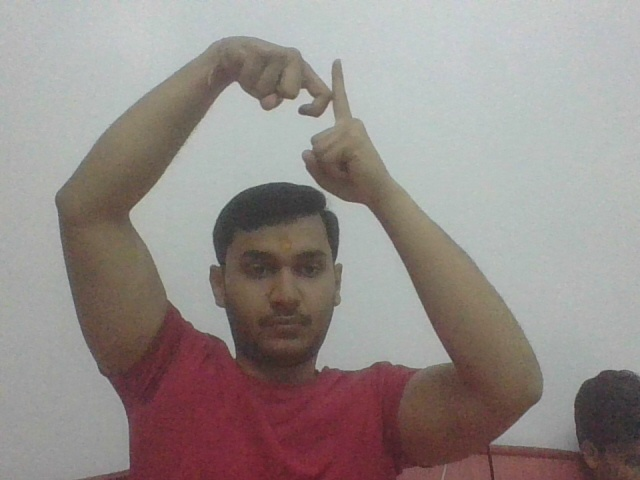K: (280, 44, 364, 135)
